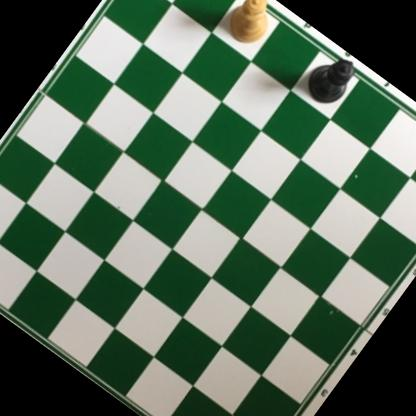black-queen: (299, 46, 364, 113)
white-queen: (220, 0, 286, 53)
